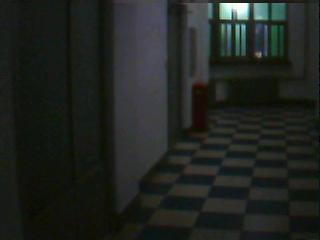oball: (196, 79, 201, 85)
